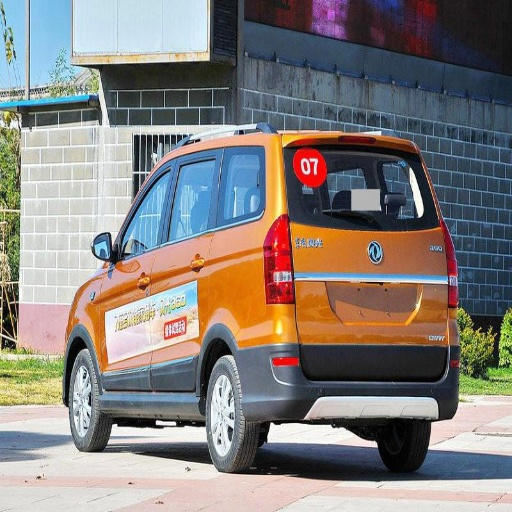back_bumper: (247, 344, 456, 418)
back_glass: (295, 147, 424, 226)
back_left_door: (152, 147, 258, 388)
trunk: (224, 222, 451, 379)
